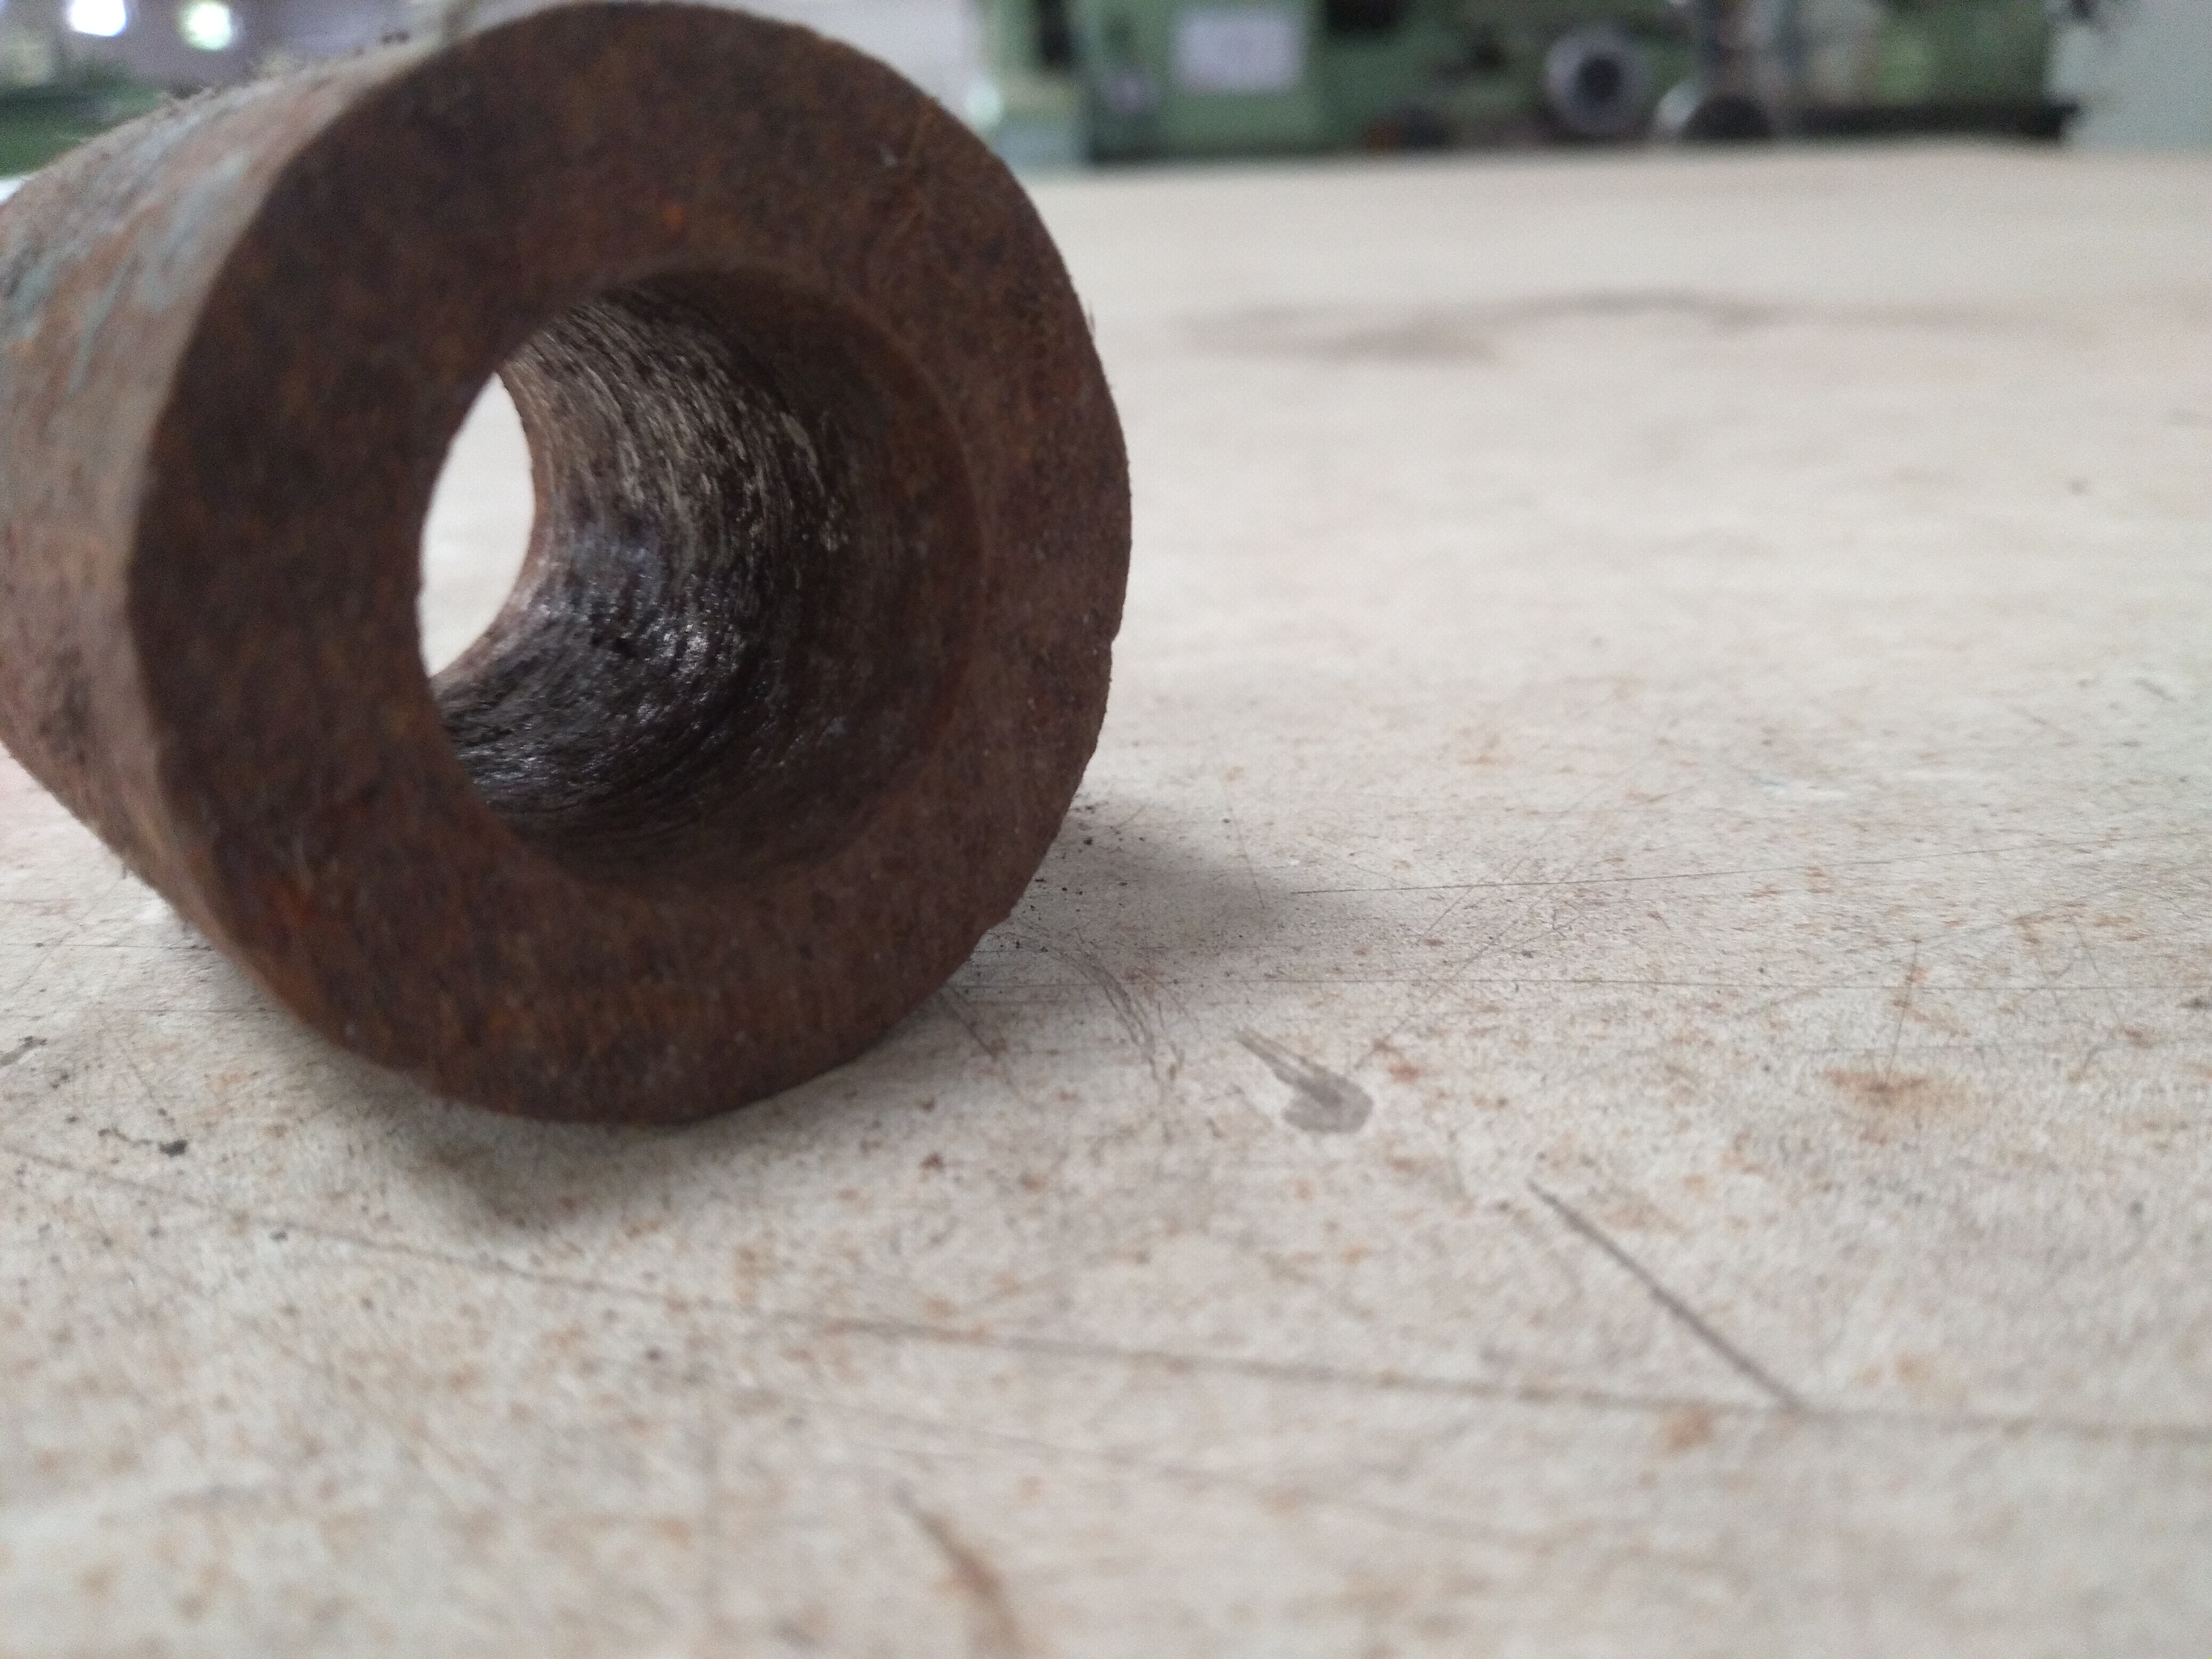No thread: (408, 134, 1054, 946)
